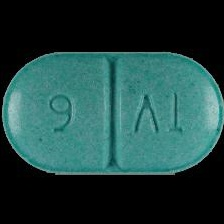70786-1718: (0, 0, 224, 224)
